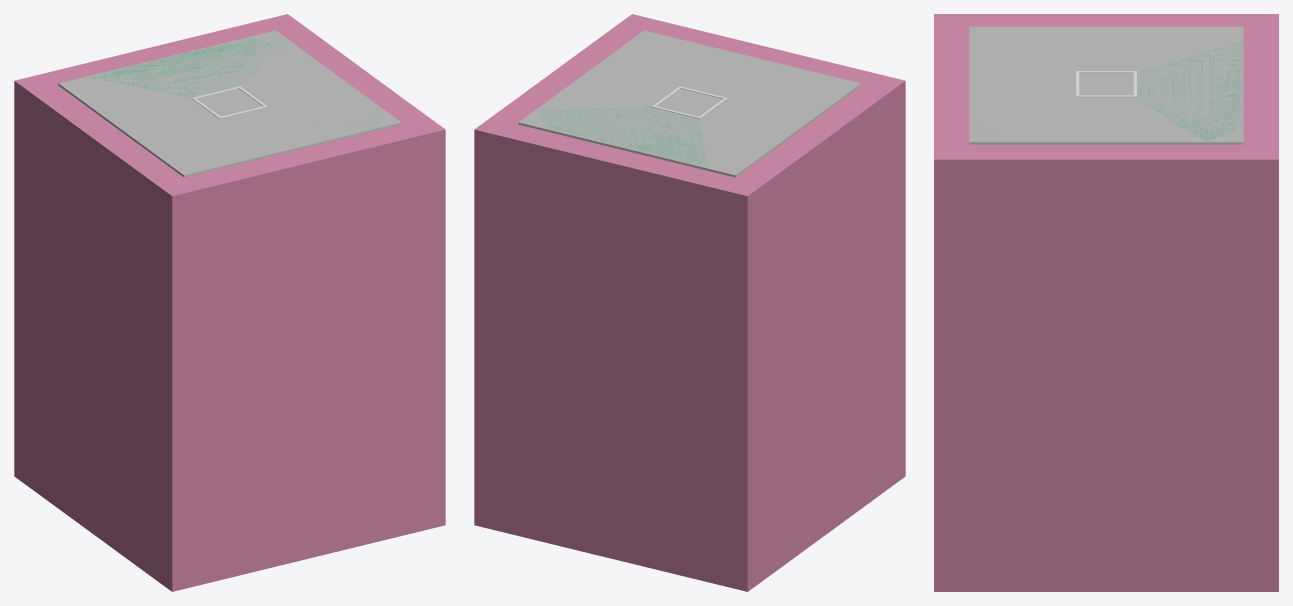
The model's file is ind_derbyarena_01a.dae.
3 views of the same model, side by side, from view 1: azimuth 30°, elevation 25°; view 2: azimuth 150°, elevation 25°; view 3: azimuth 270°, elevation 25° (orthographic). The views are drawn at different scales.
Visible parts, largest first — view 1: Untitled, ind_bld_a300, ind_bld_a15, Colmesh-1; view 2: Untitled, ind_bld_a300, ind_bld_a15, Colmesh-1; view 3: Untitled, ind_bld_a300, ind_bld_a15, Colmesh-1.
Part boxes in pixels (x1,y1,x2,y2): Untitled: (14,14,445,591); ind_bld_a300: (75,37,384,168); ind_bld_a15: (58,30,401,177); Colmesh-1: (90,38,382,128); Untitled: (474,14,905,591); ind_bld_a300: (535,37,844,168); ind_bld_a15: (518,30,861,177); Colmesh-1: (537,42,707,166); Untitled: (934,14,1278,591); ind_bld_a300: (969,26,1243,142); ind_bld_a15: (969,26,1243,144); Colmesh-1: (975,42,1242,141).
Size of the model in its own units: 50.42 by 50.42 by 70.21.
